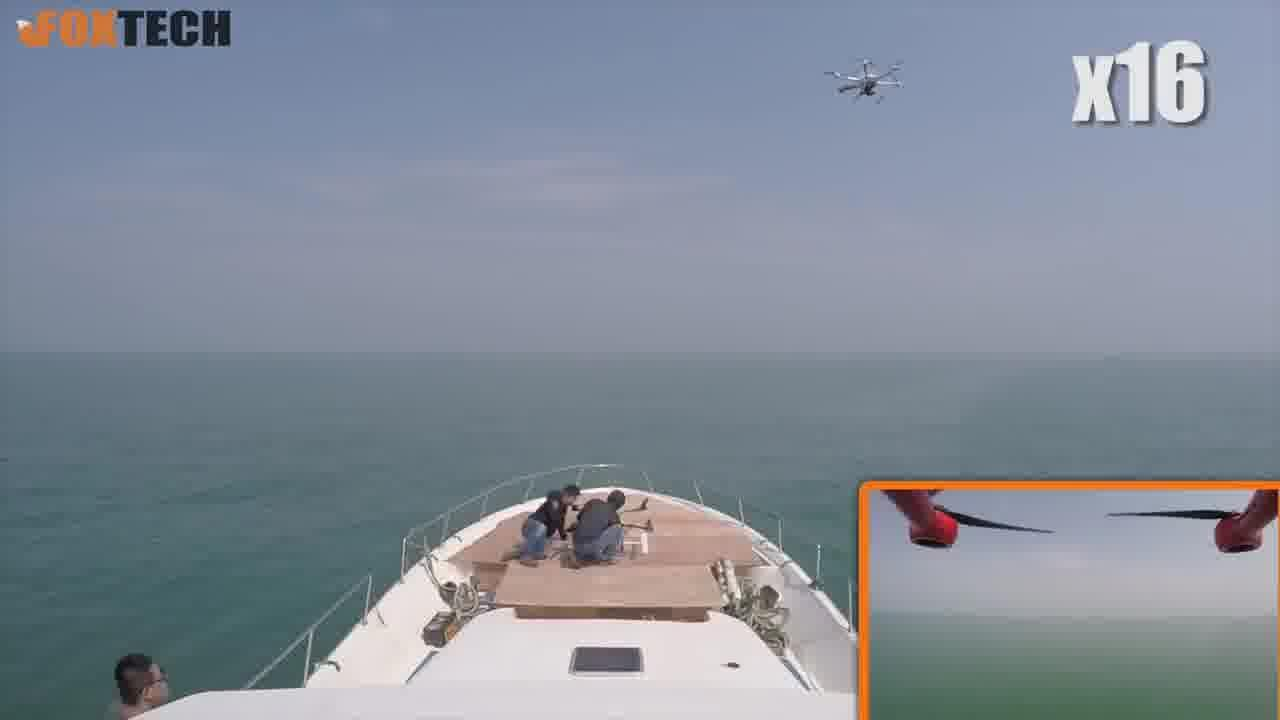drone: (822, 55, 908, 109)
